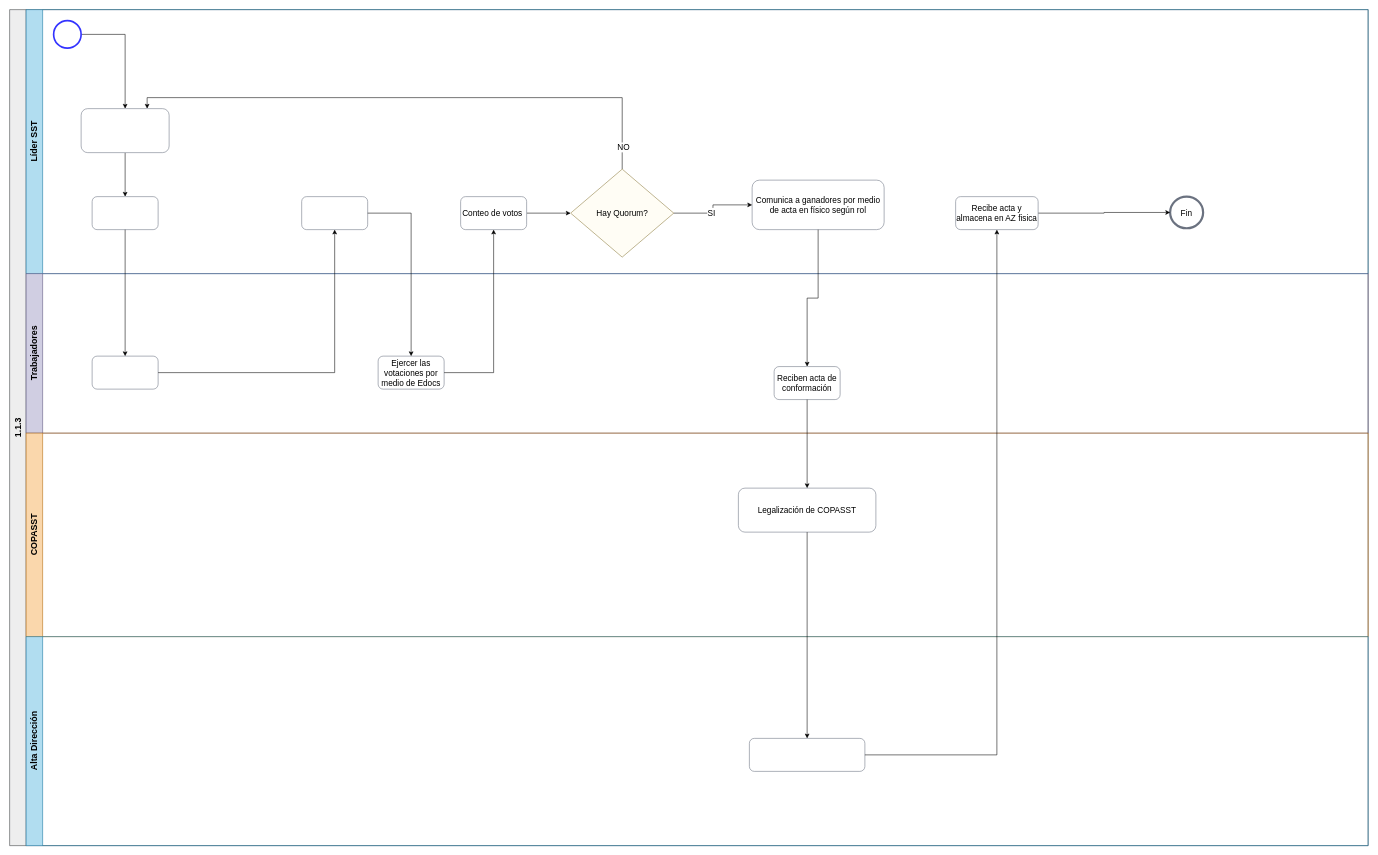
This 1378x855 diagram has some shape labels left out. Each missing label, with the centre of its shape:
Carga a Edocs con límite de tiempo: point (125, 213)
Firma y devuelve para almacenamiento: point (807, 754)
Genera los requisitos de postulación: point (125, 130)
Habilita votación en Edocs: point (334, 213)
Inicio: point (67, 34)
Inscripción de interesados: point (125, 372)
